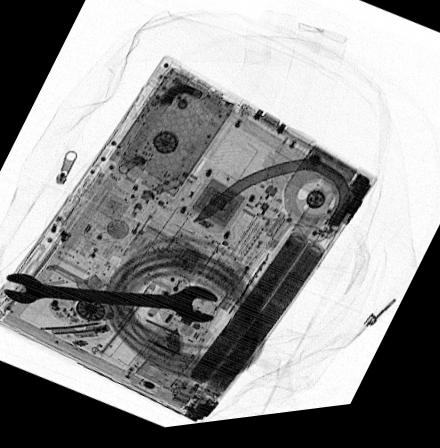Wrench: (1, 272, 220, 329)
